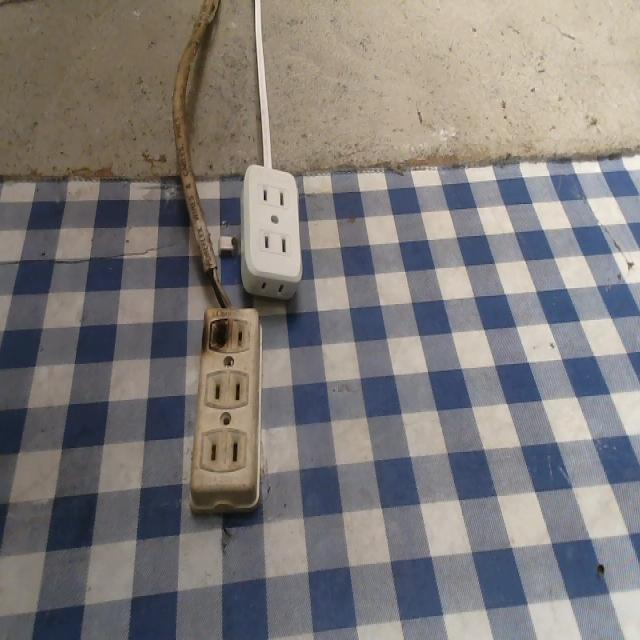-: (196, 309, 232, 360)
